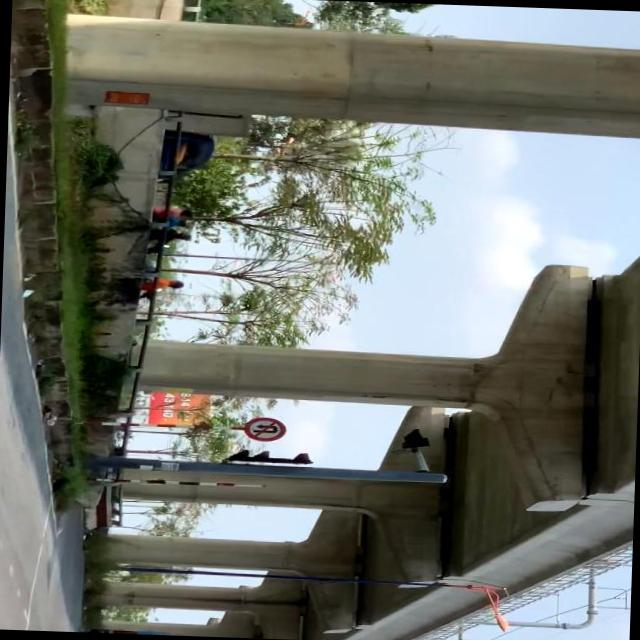P-124a1: (242, 416, 288, 442)
